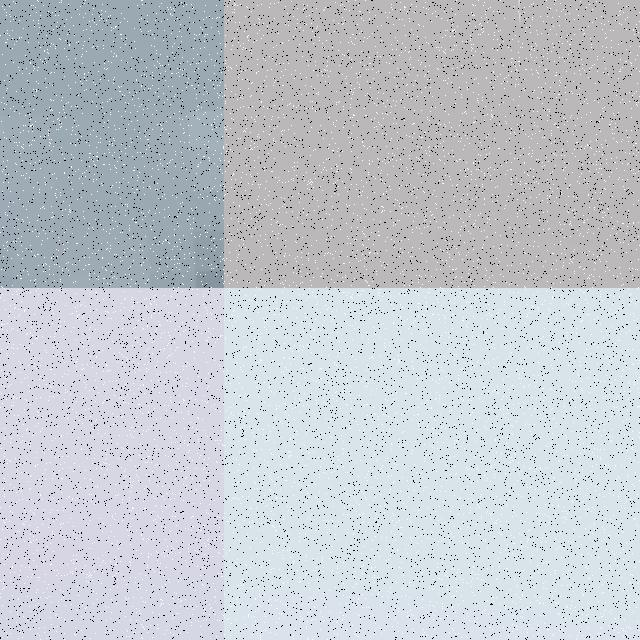drone: (224, 0, 539, 288), (0, 288, 224, 640), (0, 0, 224, 288)
